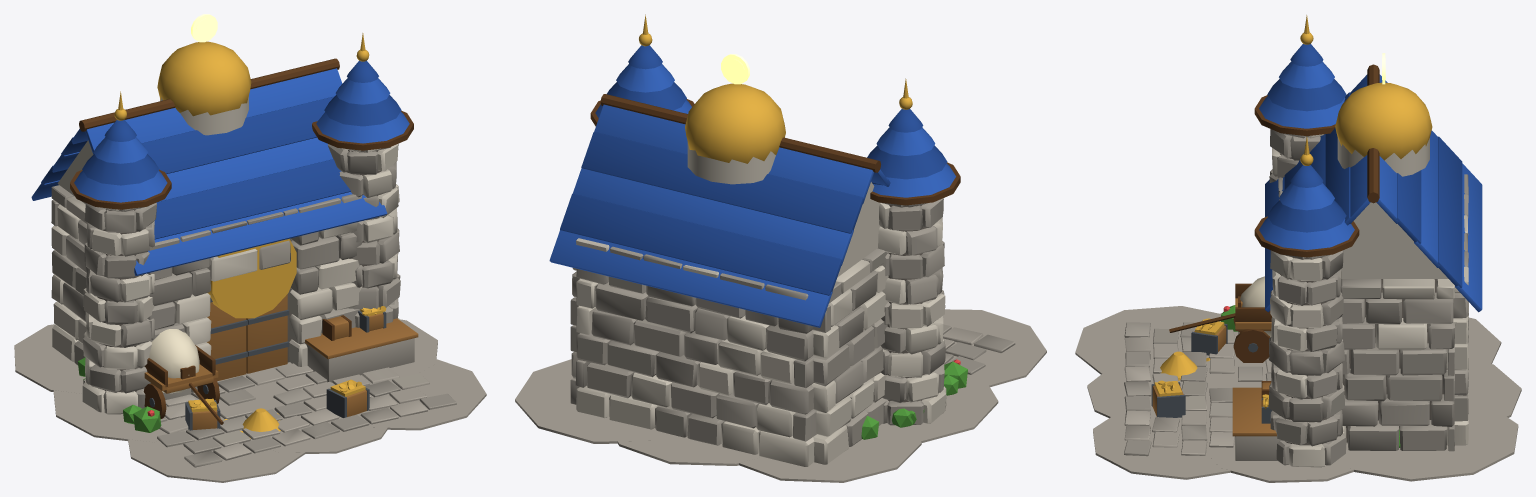
Rendered from magazyn_poz20.glb.
3 renders of one model, left to right at view 1: azimuth 30°, elevation 25°; view 2: azimuth 150°, elevation 25°; view 3: azimuth 270°, elevation 25°, orthographic. The views are drawn at different scales.
Parts seen in each view (by area): view 1: magazyn_poz20; view 2: magazyn_poz20; view 3: magazyn_poz20.
Part boxes in pixels (x1,y1,x2,y2): magazyn_poz20: (14,14,486,482); magazyn_poz20: (515,14,1046,482); magazyn_poz20: (1075,15,1521,482).
Size of the model in its own units: 8.39 by 7.43 by 8.71.
